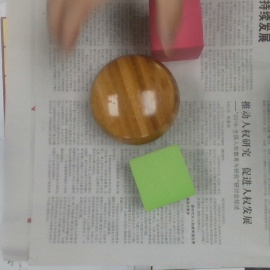chess: (88, 54, 175, 148)
